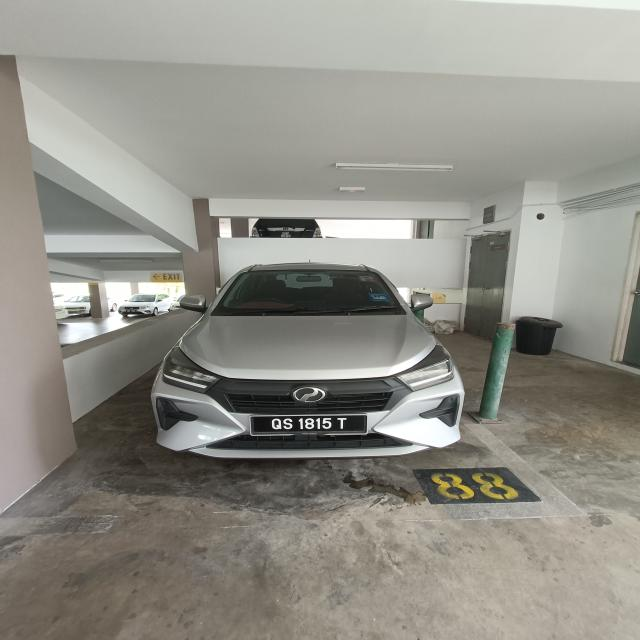PeroduaAxia: (150, 261, 466, 460)
